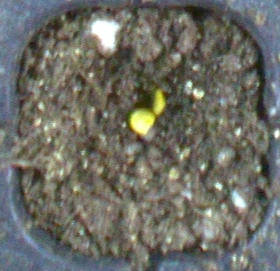pepper seed: (49, 37, 209, 175), (67, 27, 235, 144)
